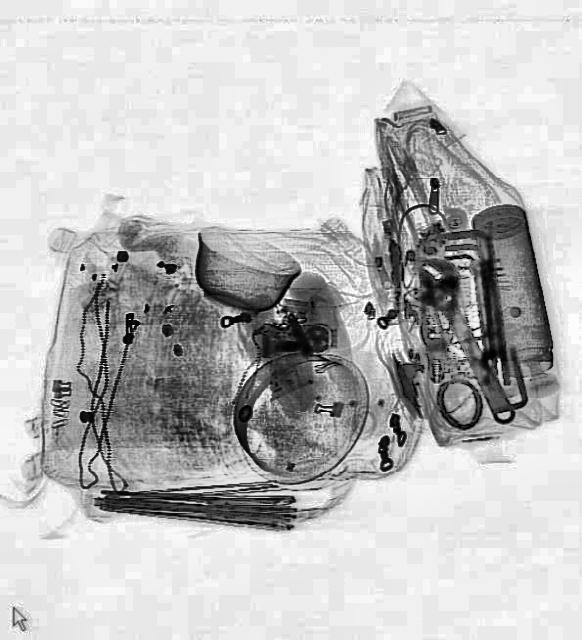Wrench: (404, 248, 532, 434)
